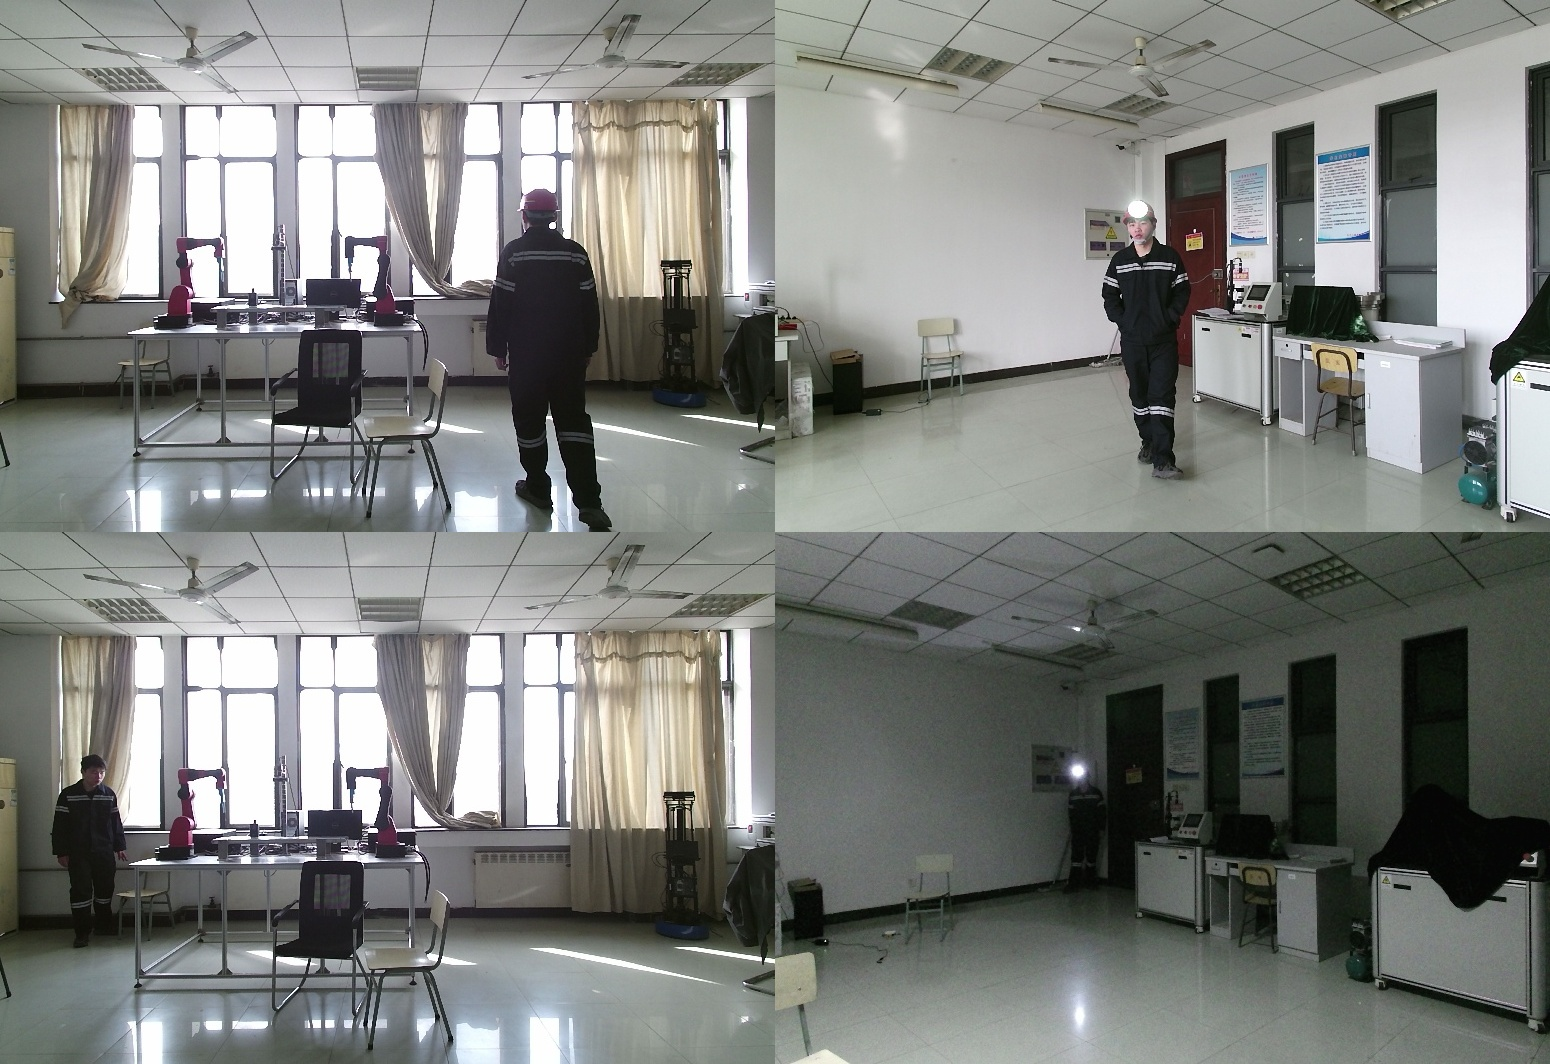person: (489, 188, 618, 532), (1100, 203, 1200, 480), (42, 756, 127, 947), (1061, 768, 1107, 894)
